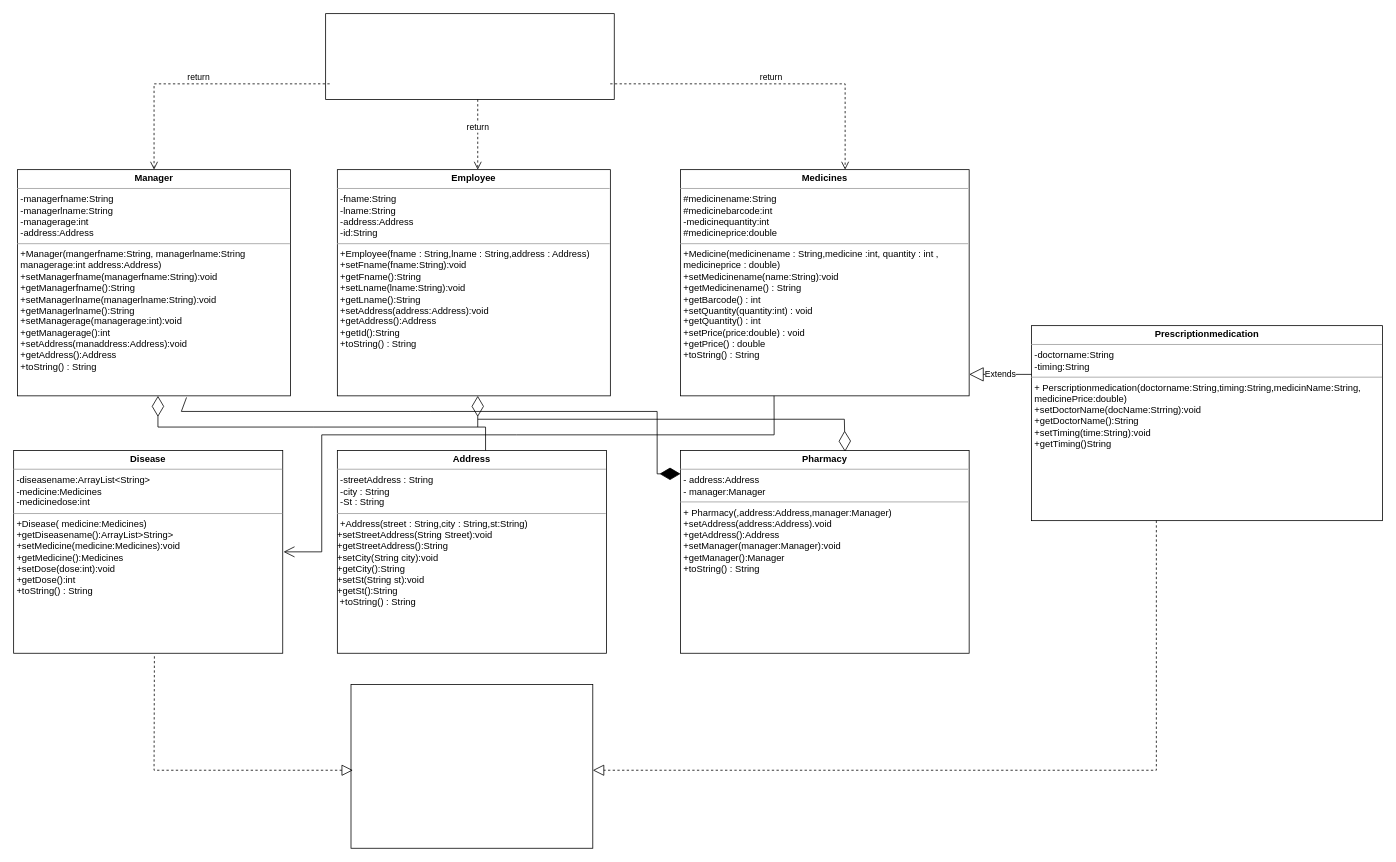
The diagram is 1396 pixels wide and 862 high, and some of its shapes have lost their labels. Each missing label, with the centre of its shape:
"<<Interface>> Dose + setMeddose(dose:int):void + getMeddose():int" goes at point (471, 766).
"PharmacyTester + main(String[] args)" goes at point (469, 56).
